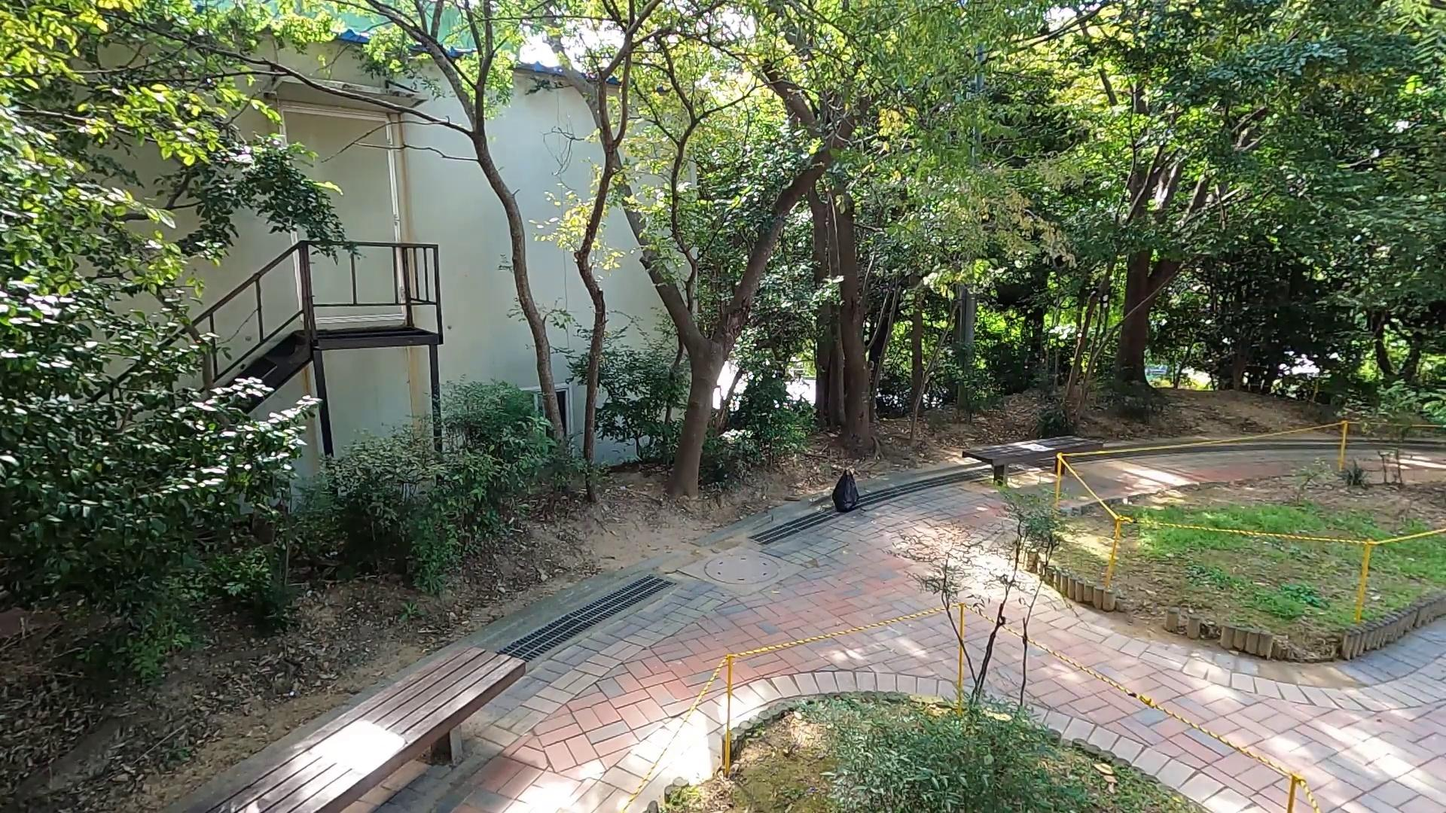trash: (830, 469, 863, 514)
